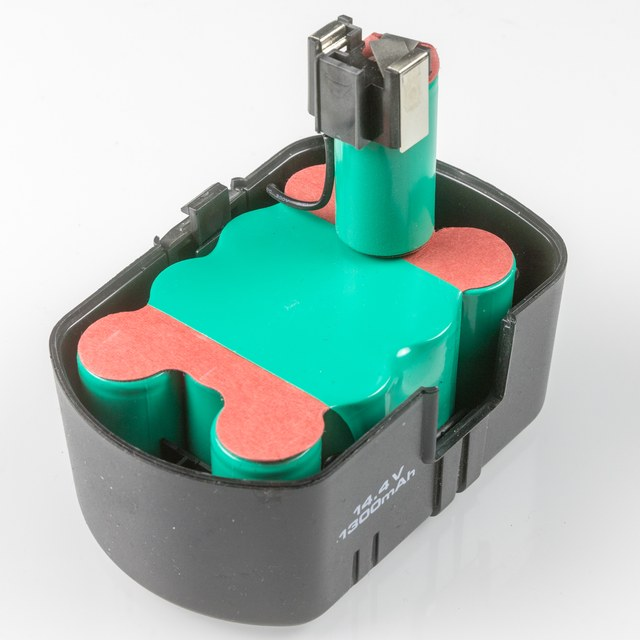Boat Type-C Cable 1m: (32, 32, 608, 608)
